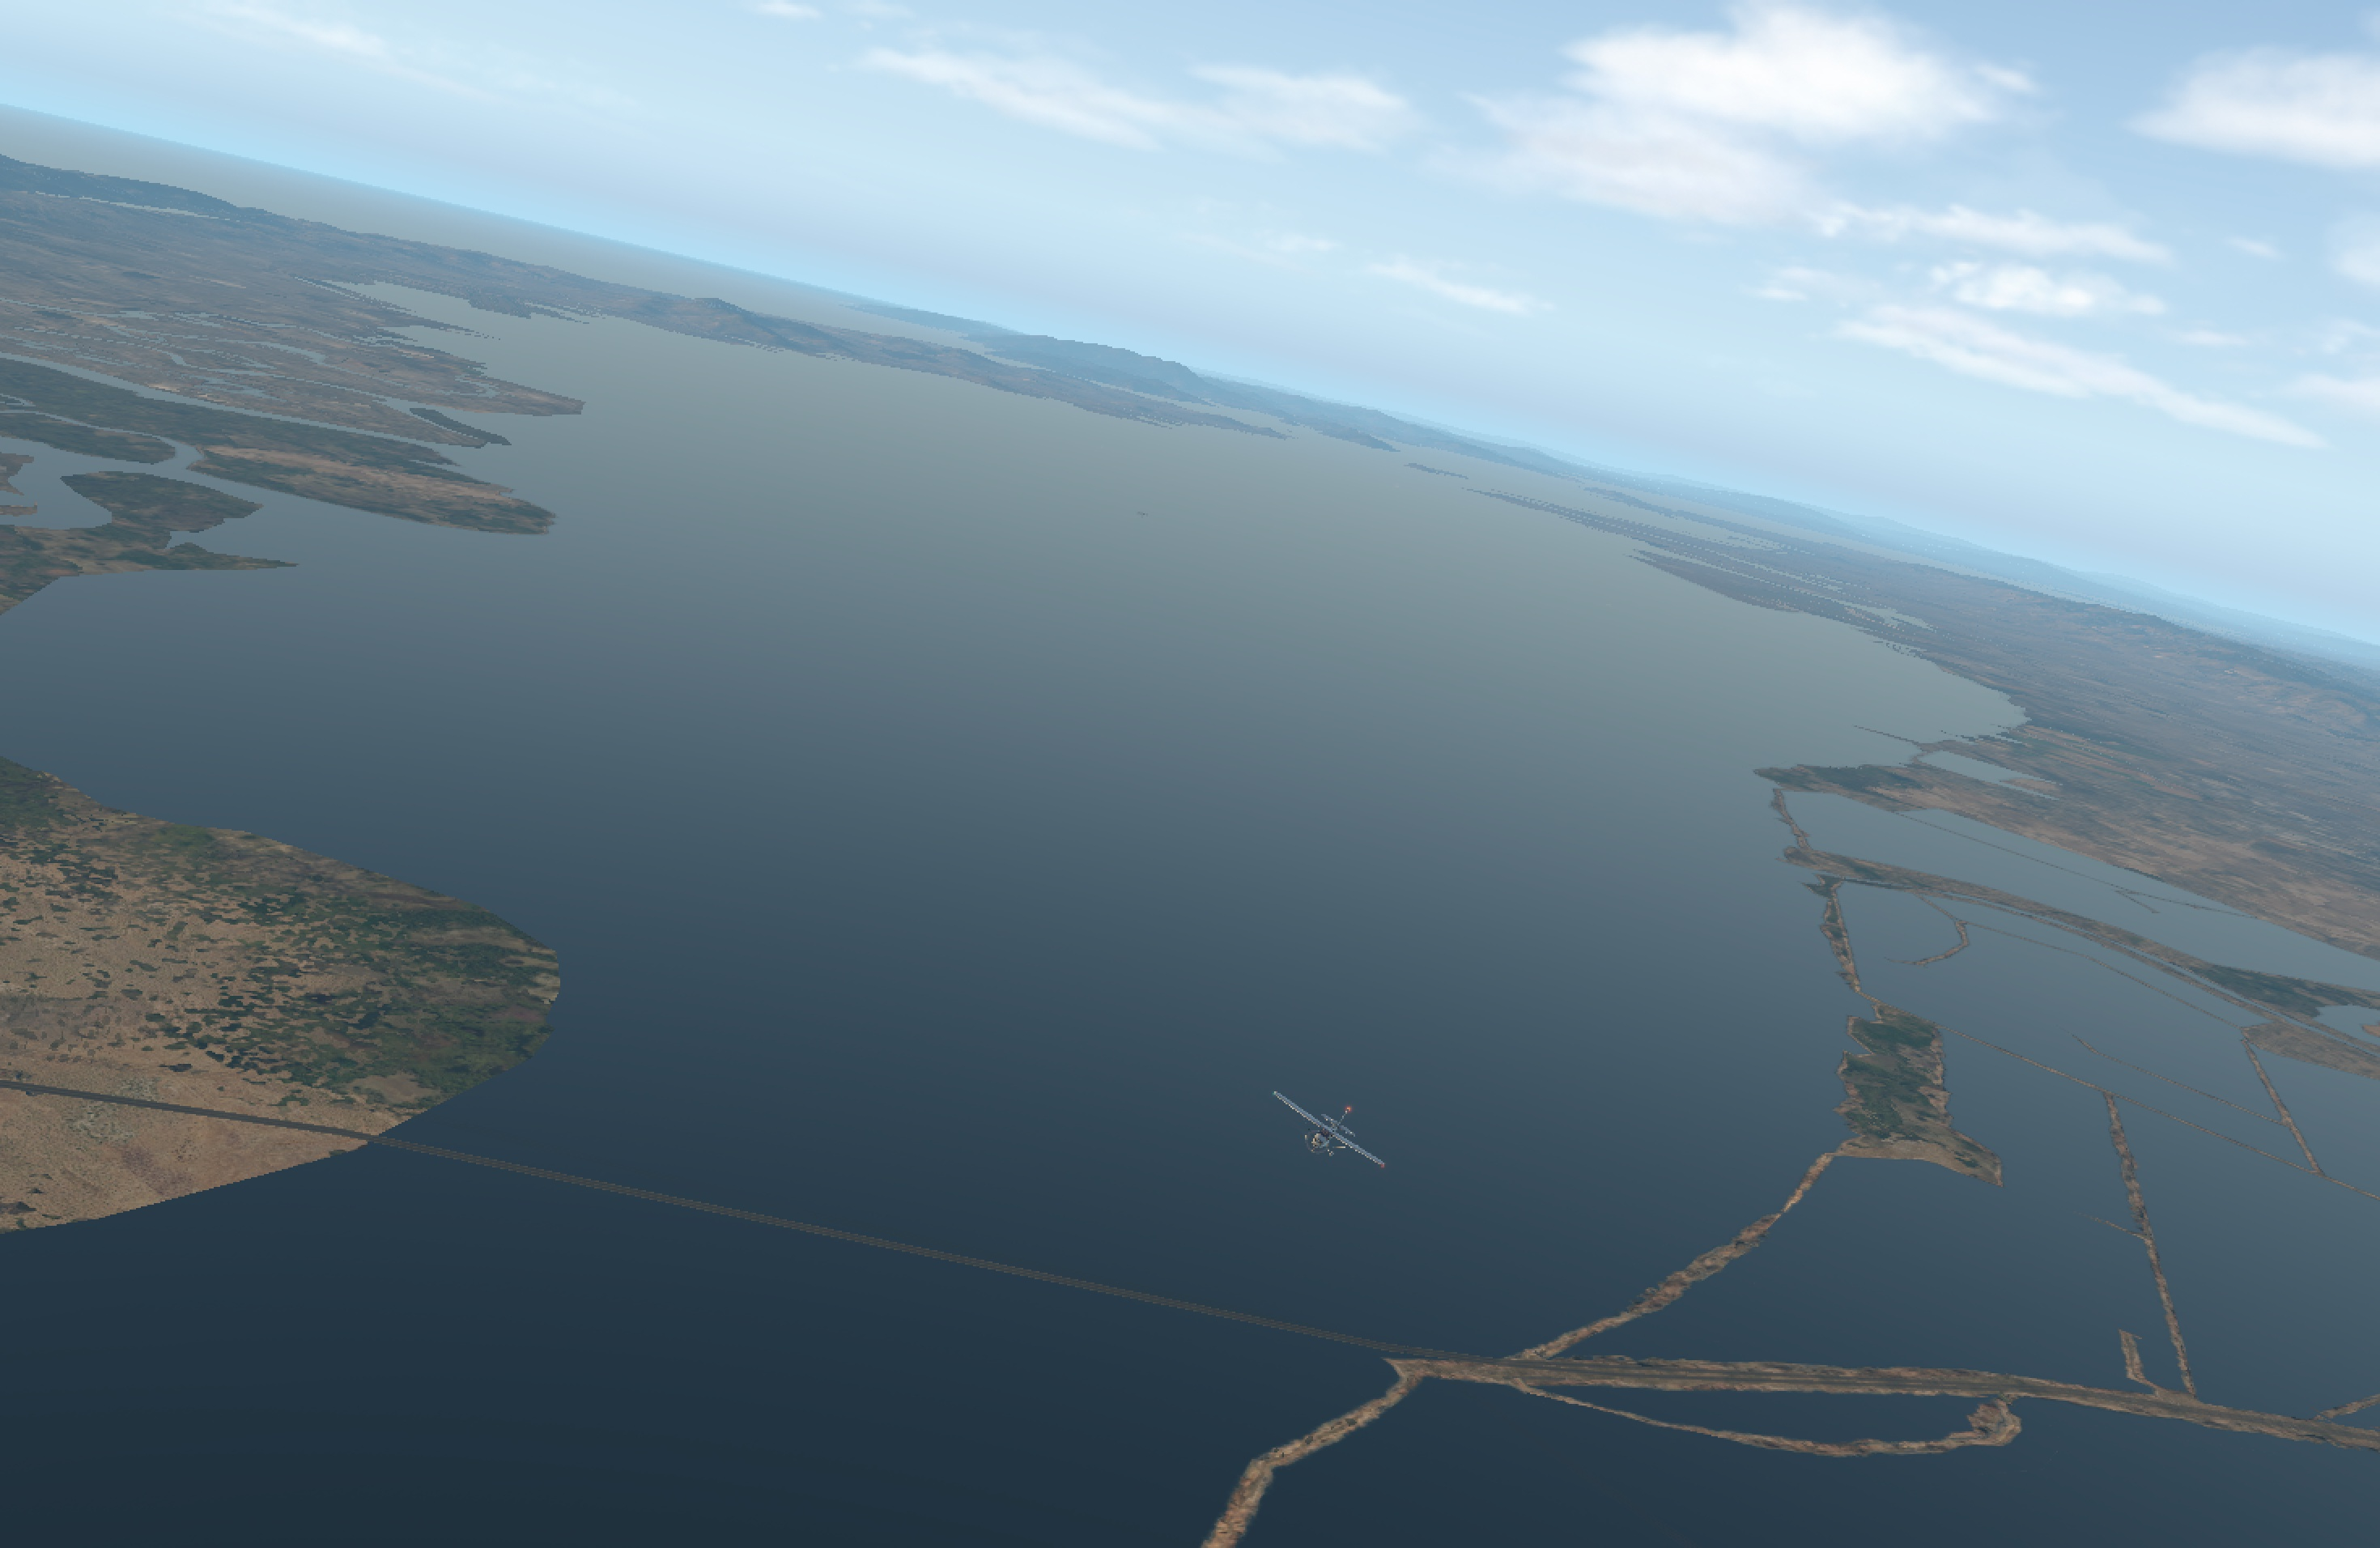aircraft: (1278, 1118, 1370, 1152)
